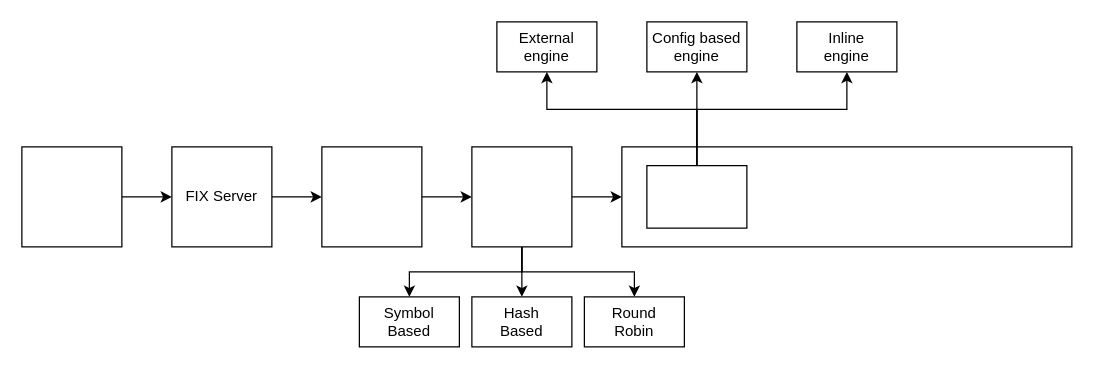
Some shapes in this 1094 by 369 pixel diagram are drawn without their labels. Each missing label, with the centre of its shape:
"Client" goes at pixel 71 196.
"Load Balancer" goes at pixel 521 196.
"Router" goes at pixel 371 196.
"Validation & Enrichment Engine" goes at pixel 696 196.
